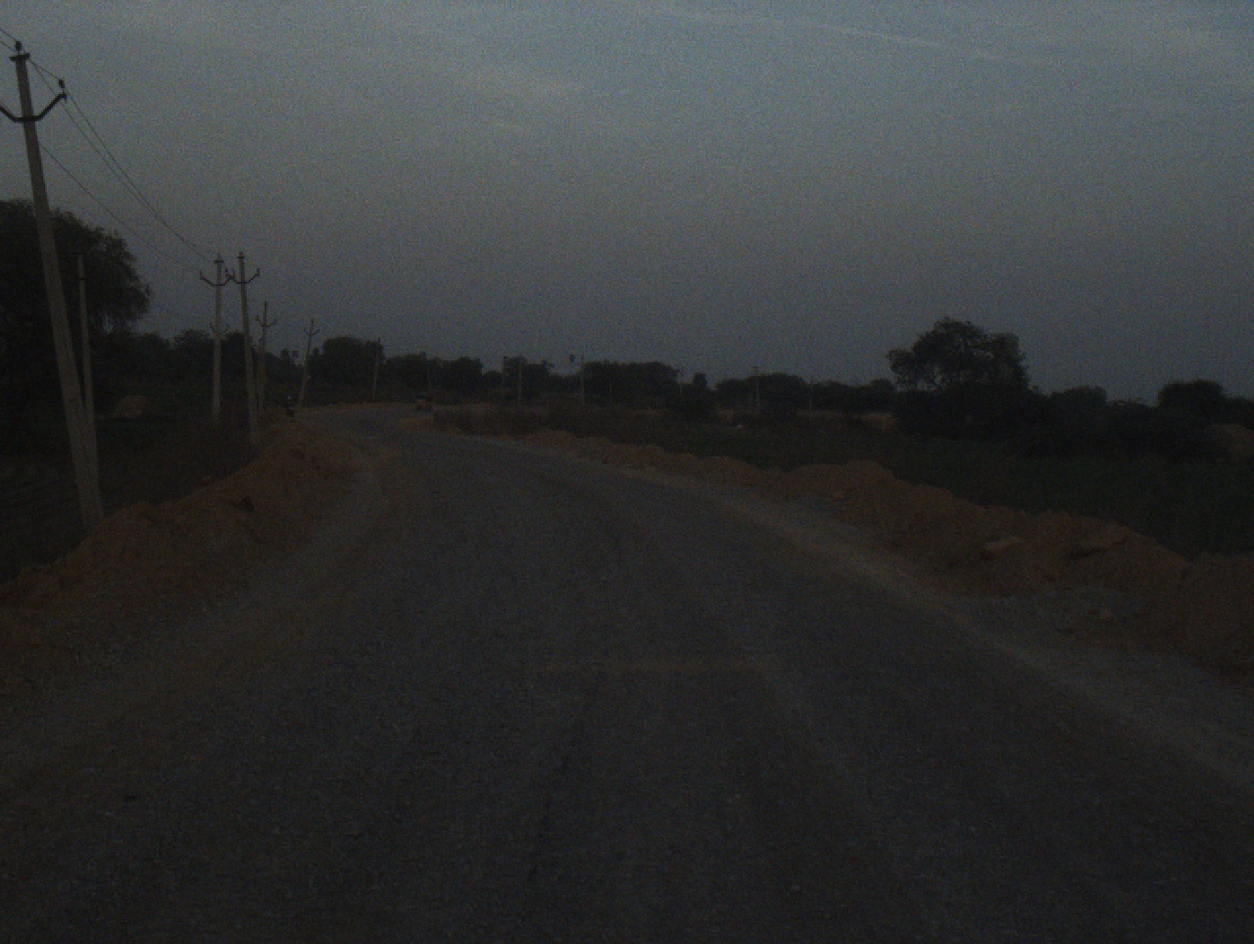autorickshaw: (413, 392, 433, 411)
motorcycle: (282, 392, 299, 415)
